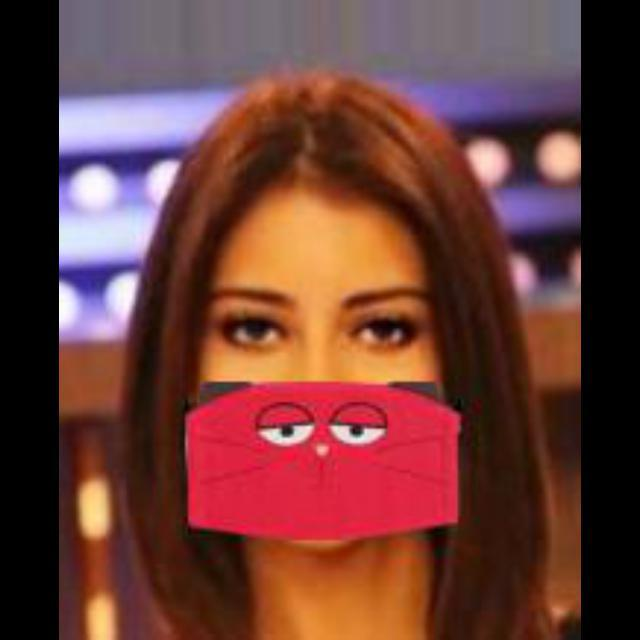suspicion: (178, 120, 498, 530)
